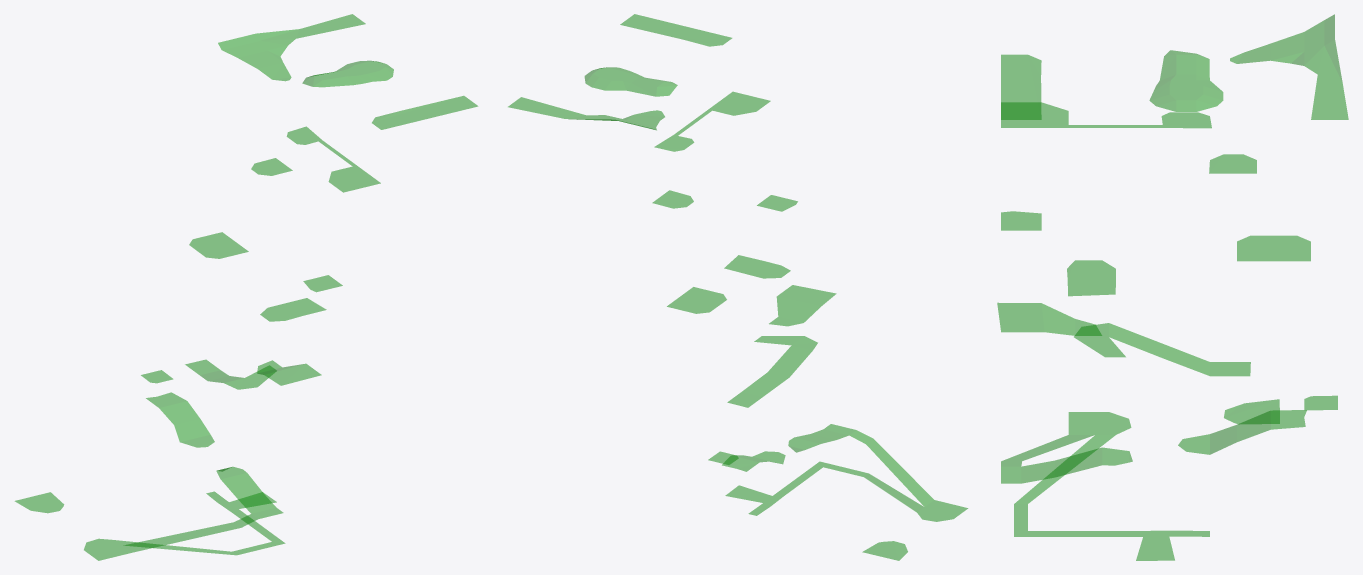
The model's file is dash_siro.obj.
The picture shows the model from 3 angles, left to right: view 1: azimuth 30°, elevation 25°; view 2: azimuth 150°, elevation 25°; view 3: azimuth 270°, elevation 25°; orthographic projection. The views are drawn at different scales.
Bounding box in the file's own units: 85.81 × 91 × 52.2.
